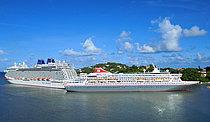Ship: (64, 68, 202, 95), (3, 57, 80, 90)
